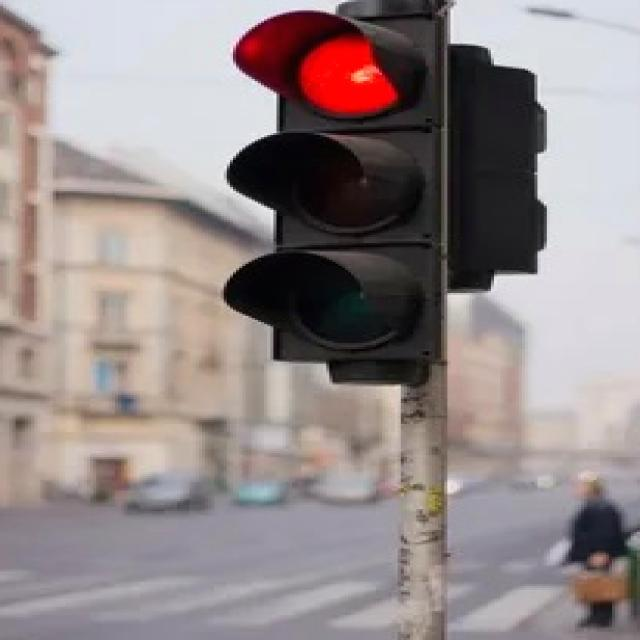kirmizi: (222, 12, 448, 364)
